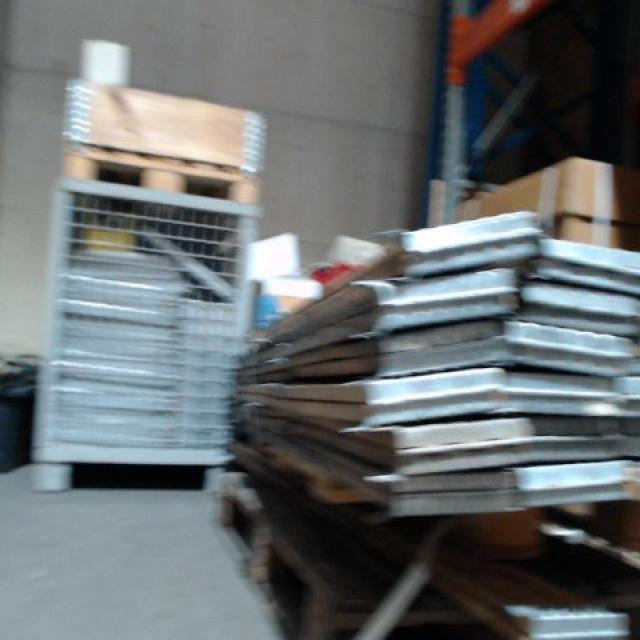pallet: (216, 471, 447, 640), (58, 136, 262, 208)
stillage: (30, 164, 265, 494)
